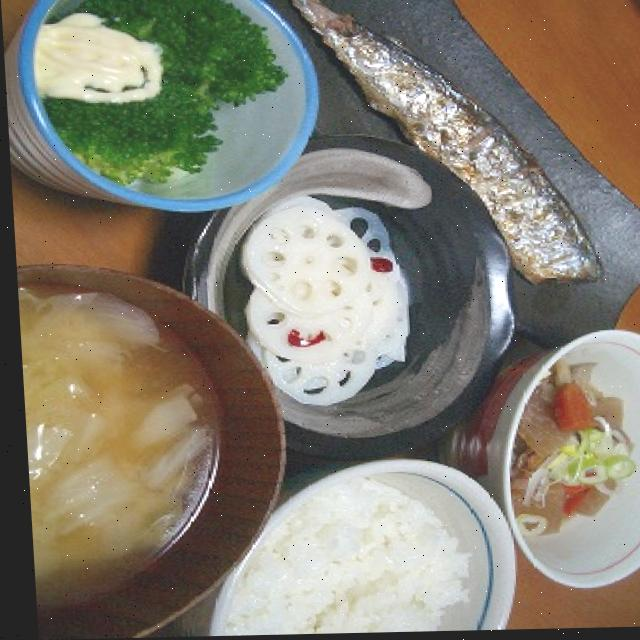熟制海鲜: (260, 0, 613, 314)
